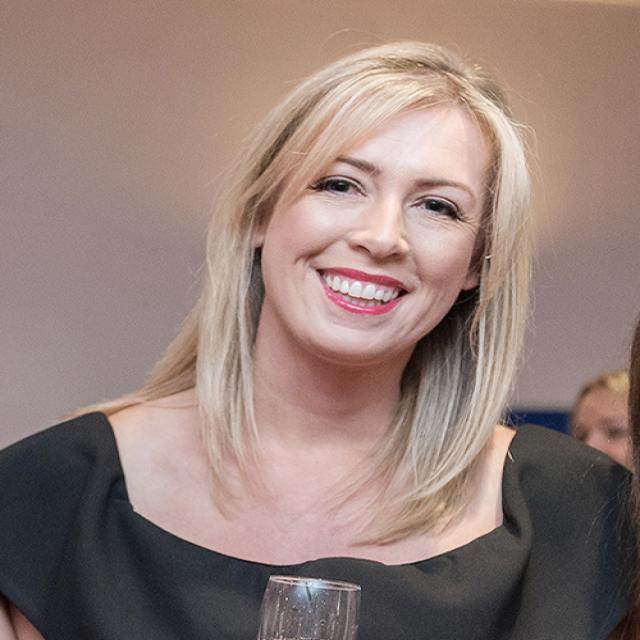human: (1, 38, 640, 640)
